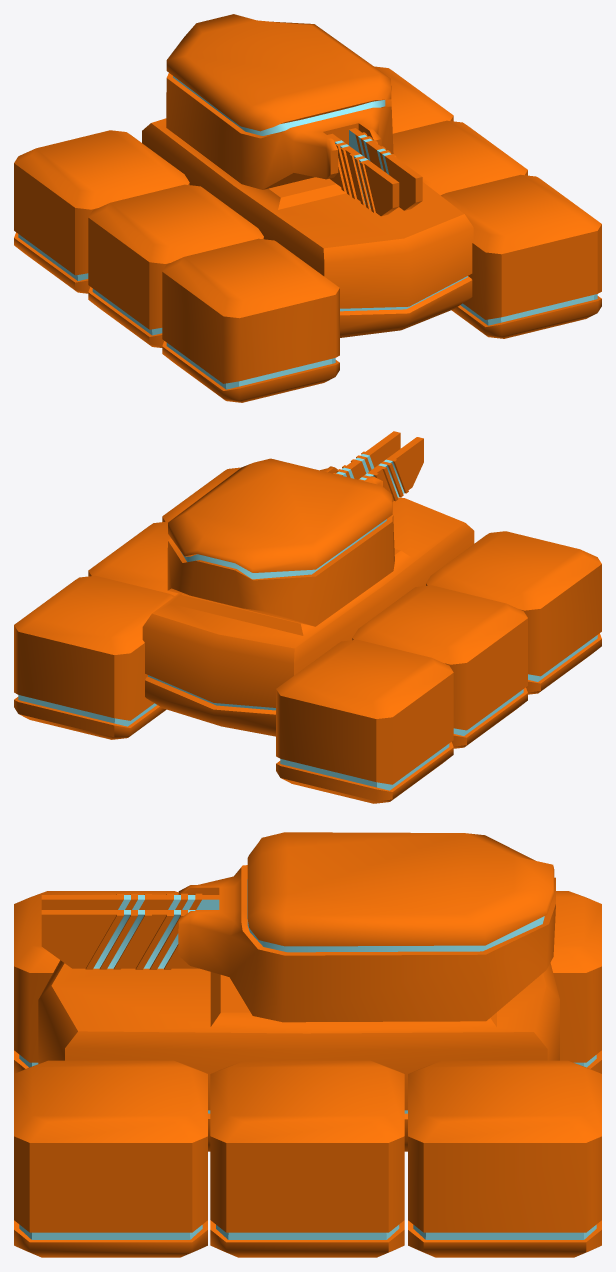
Rendered from MDL_BillTank.FBX.
3 views of the same model, one above another, from view 1: azimuth 30°, elevation 25°; view 2: azimuth 150°, elevation 25°; view 3: azimuth 270°, elevation 25° (orthographic). The views are drawn at different scales.
Parts seen in each view (by area): view 1: Box001; view 2: Box001; view 3: Box001.
Part boxes in pixels (box(x1,y1,x2,y2)): Box001: box(14, 14, 601, 402); Box001: box(14, 431, 601, 803); Box001: box(14, 832, 601, 1257).
Bounding box in the file's own units: 379 × 384 × 194.
